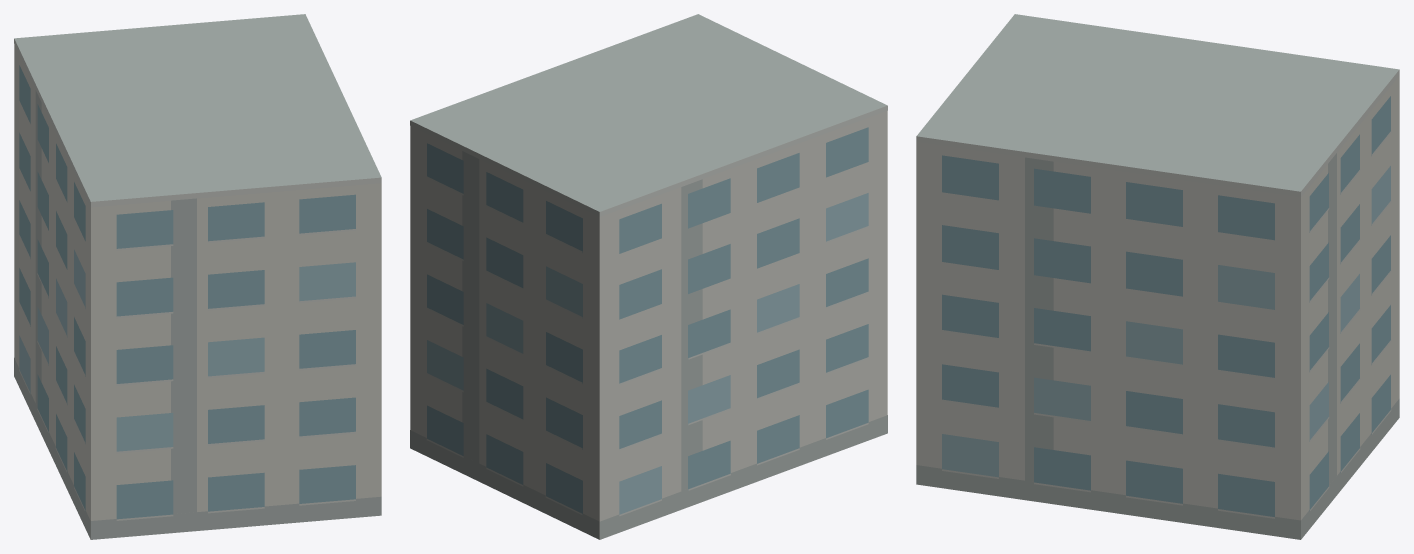
Rendered from residential-624d3b94-c75f-46eb-8082-2fe14988d198.glb.
3 renders of one model, left to right at view 1: azimuth 30°, elevation 25°; view 2: azimuth 150°, elevation 25°; view 3: azimuth 270°, elevation 25°, orthographic. The views are drawn at different scales.
Parts seen in each view (by area): view 1: residential-624d3b94-c75f-46eb-8082-2fe14988d198.tmp; view 2: residential-624d3b94-c75f-46eb-8082-2fe14988d198.tmp; view 3: residential-624d3b94-c75f-46eb-8082-2fe14988d198.tmp.
Boxes of the visible parts, x1,y1,x2,y2 form: residential-624d3b94-c75f-46eb-8082-2fe14988d198.tmp: [14, 14, 381, 539]; residential-624d3b94-c75f-46eb-8082-2fe14988d198.tmp: [410, 14, 887, 539]; residential-624d3b94-c75f-46eb-8082-2fe14988d198.tmp: [916, 14, 1399, 539].
Bounding box in the file's own units: 16.7 × 15.25 × 19.19.
